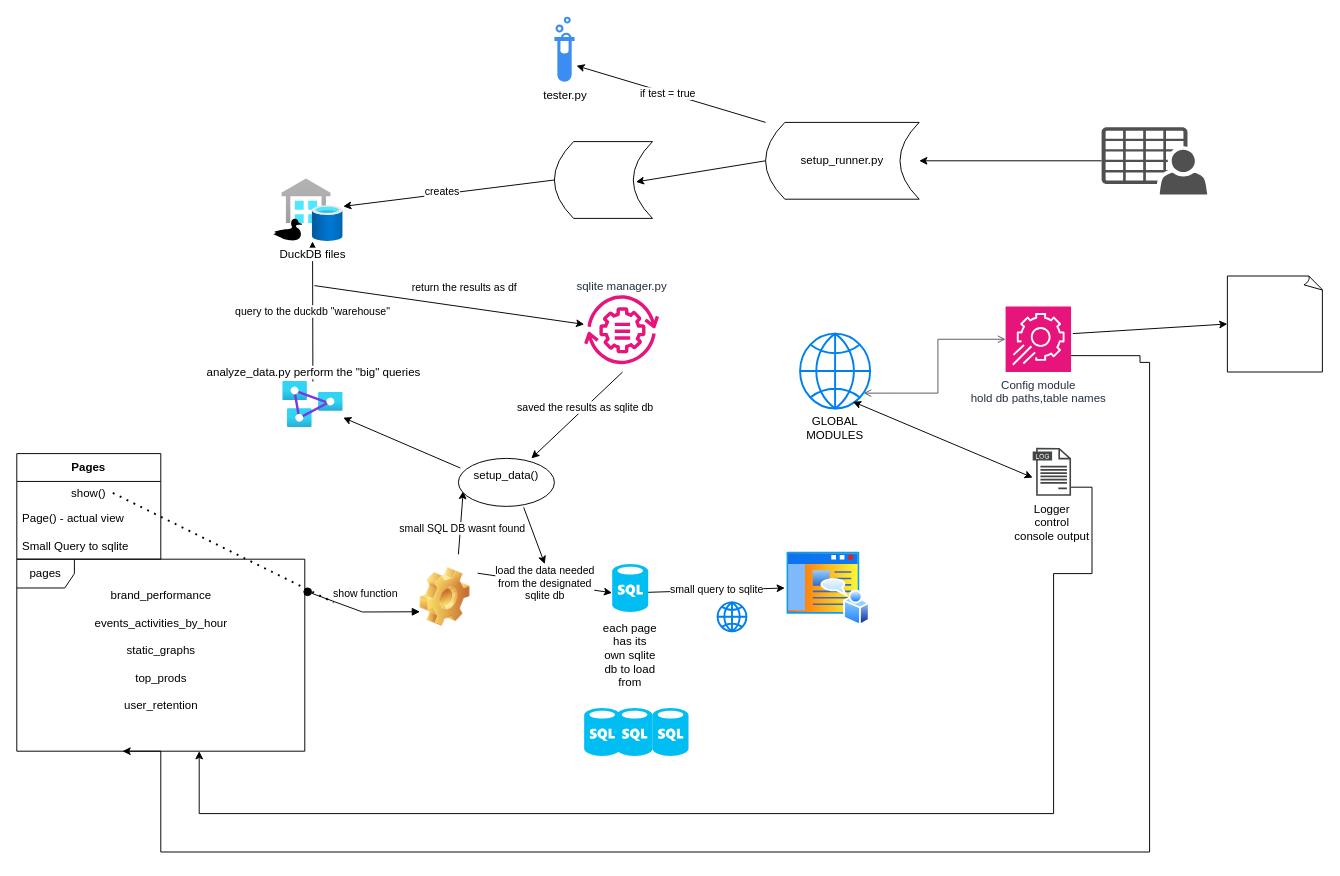
Image size: 1340x876. Some labels were removed from this diagram. The shapes that lost their labels are listed below. From the top down, each one's centre as x and y in pixels, then its label:
At pixel 603 179: "load_data into duckdb files".
At pixel 1154 160: "csv files".
At pixel 1274 323: "config.json".
At pixel 444 596: "PageManagerModule".
At pixel 827 587: "showing the actual page".
